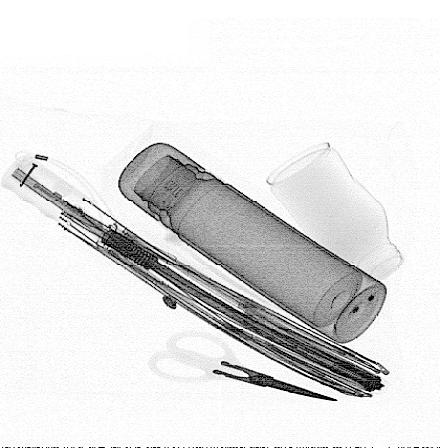Scissors: (147, 328, 339, 403)
